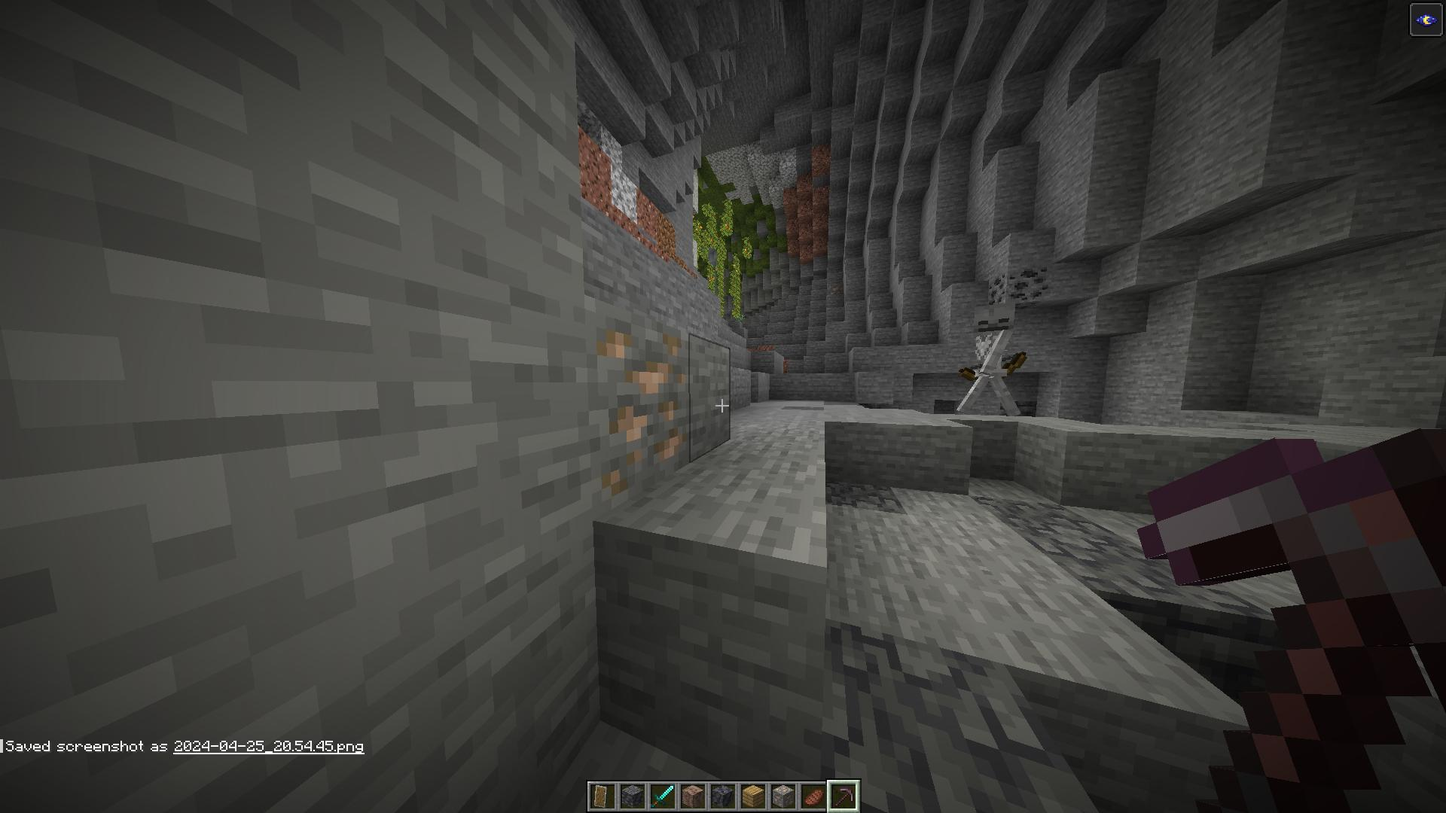iron ore: (590, 313, 682, 485), (820, 283, 849, 305)
